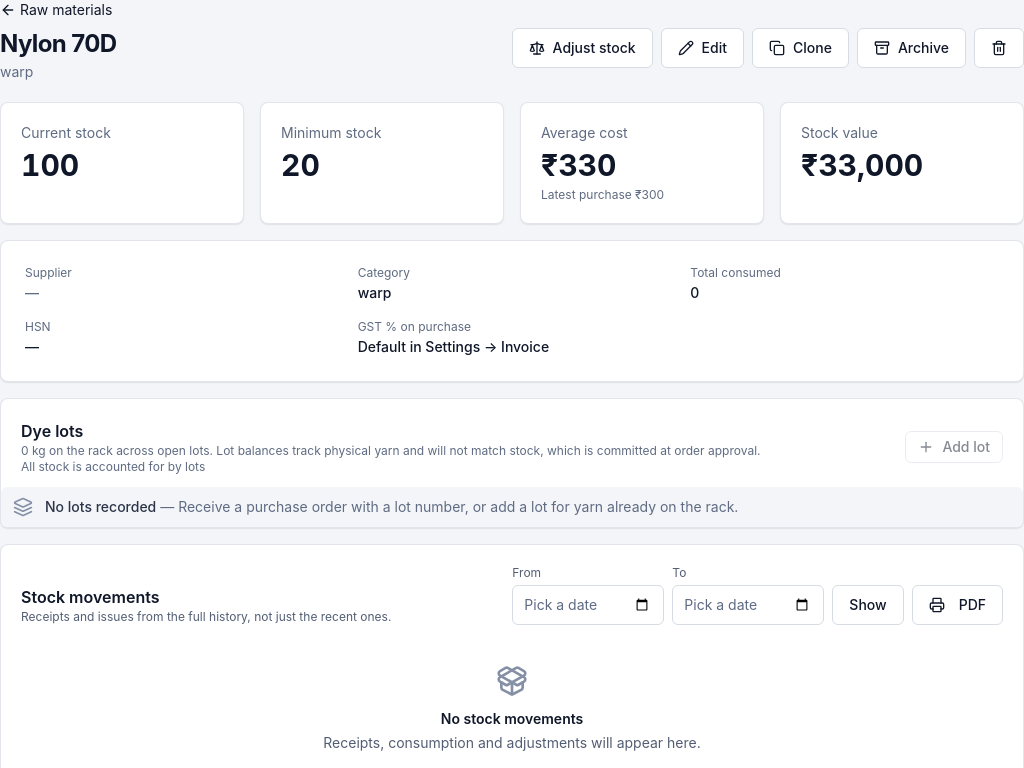
Scenario: removing a material › warns that a used material is archived, not deleted
Click the button named "Remove material" at (999, 48), box [974,28,1023,68]
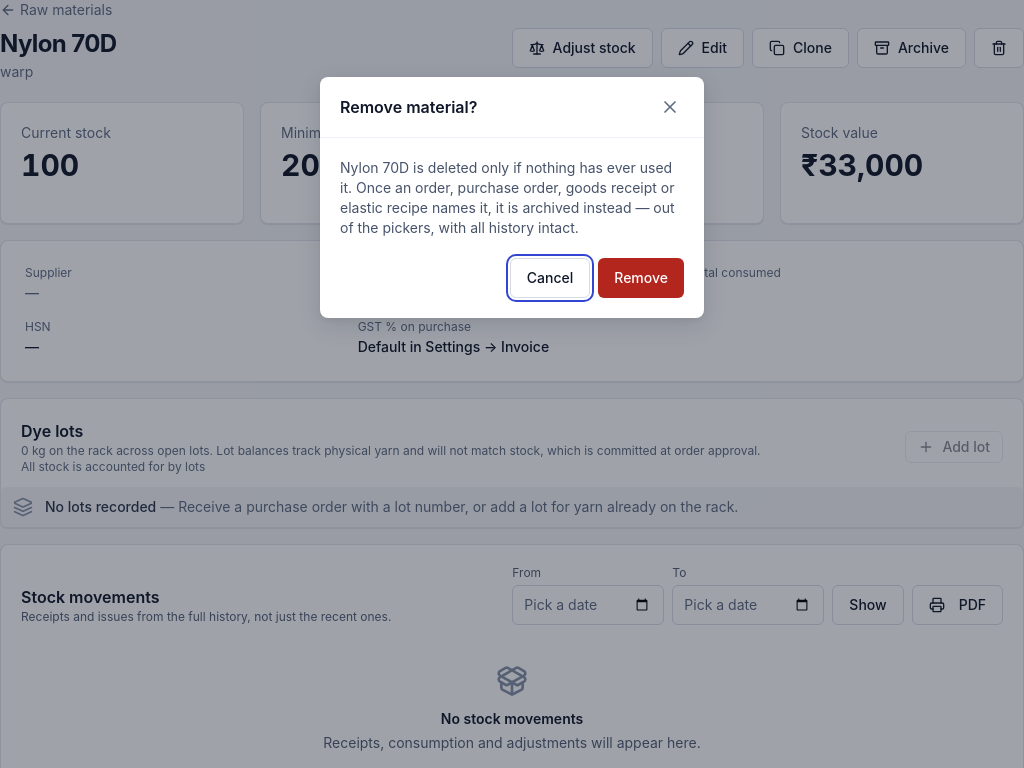
Result: the text "history intact" is shown at [340,159,675,236]
